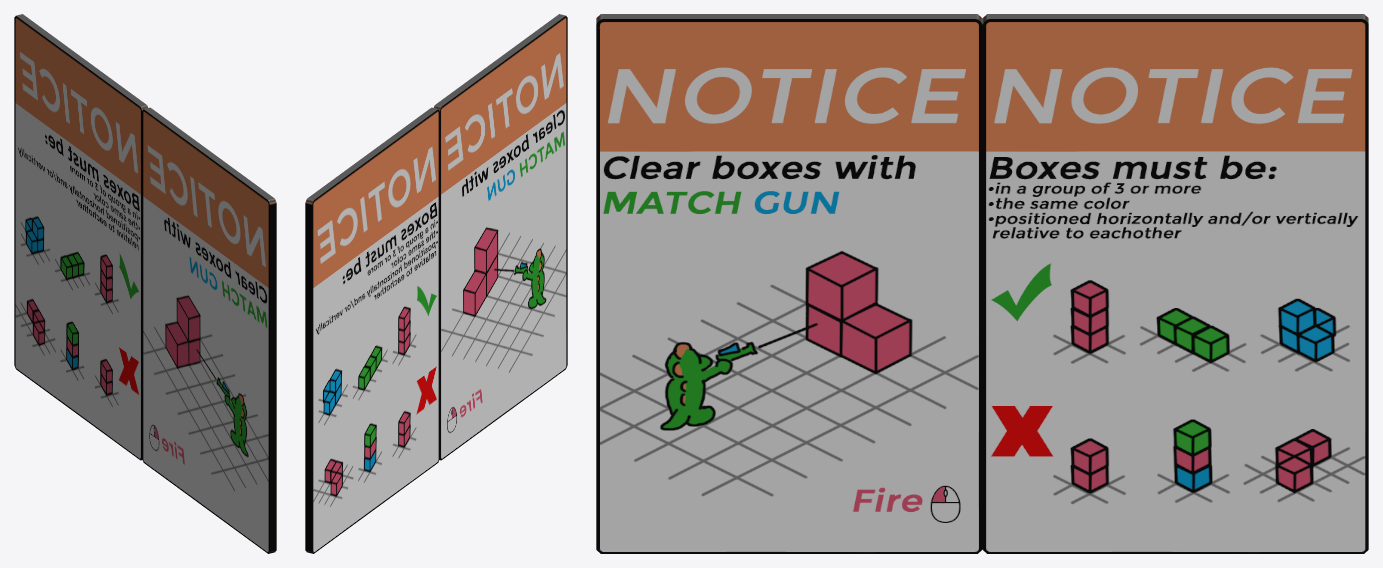
File: EmployeeNotice.fbx
The picture shows the model from 3 angles, left to right: view 1: azimuth 30°, elevation 25°; view 2: azimuth 150°, elevation 25°; view 3: azimuth 270°, elevation 25°; orthographic projection. The views are drawn at different scales.
Visible parts, largest first — view 1: Notice.002, Notice.001; view 2: Notice.001, Notice.002; view 3: Notice.002, Notice.001.
Part boxes in pixels (x1=…): Notice.002: x1=142, y1=107, x2=276, y2=553; Notice.001: x1=14, y1=14, x2=148, y2=460; Notice.001: x1=305, y1=107, x2=439, y2=553; Notice.002: x1=433, y1=14, x2=567, y2=460; Notice.002: x1=596, y1=14, x2=982, y2=553; Notice.001: x1=982, y1=14, x2=1368, y2=553.
Size of the model in its own units: 6.08 by 306 by 400.
Materials: 1 (1 with a texture image).
